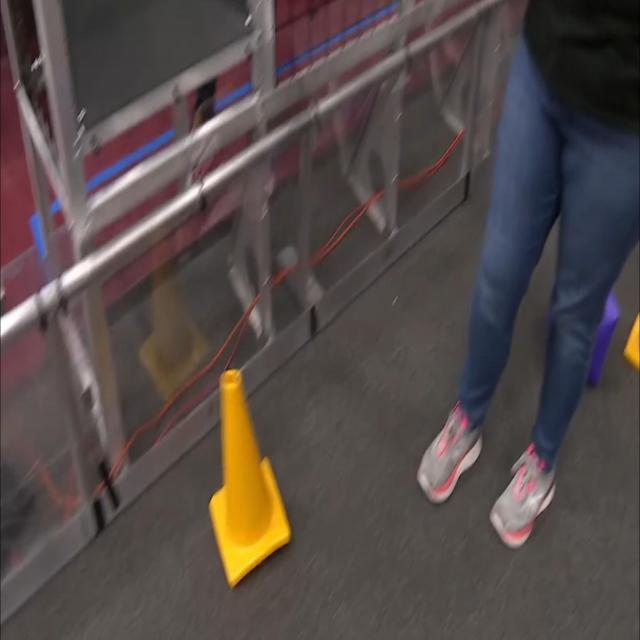frc_cone: (207, 345, 290, 572), (623, 218, 640, 400)
frc_cube: (590, 285, 620, 384)
